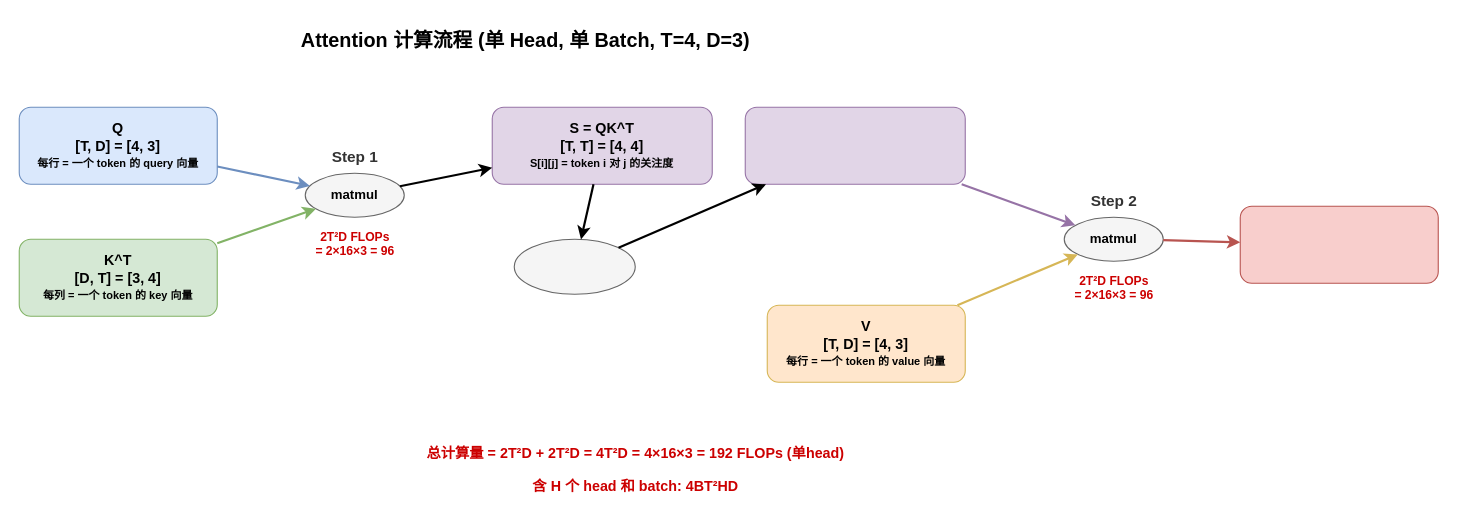
This 1458x521 diagram has some shape labels left out. Here are the shapes that lost their labels. From the top down, the centre of each, then its label:
At point (854, 145): "α = softmax(S) [T, T] = [4, 4] 每行之和 = 1，是概率分布".
At point (1338, 244): "O = αV [T, D] = [4, 3] 每行 = token 的加权输出".
At point (574, 266): "softmax (逐行归一化)".
